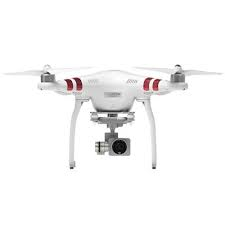Drone: (8, 35, 218, 188)
